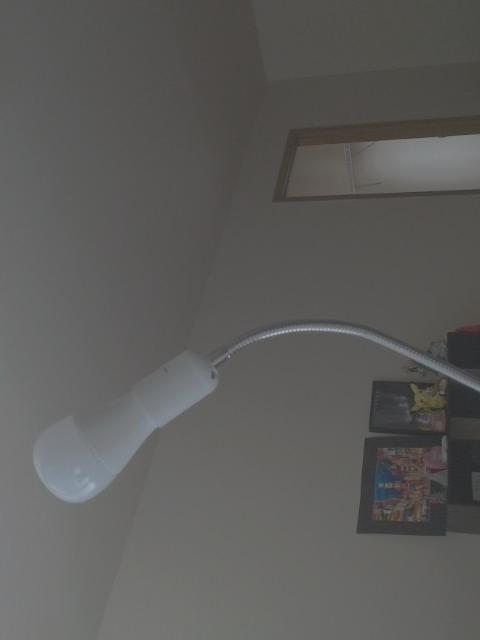Fan: (31, 369, 176, 501)
